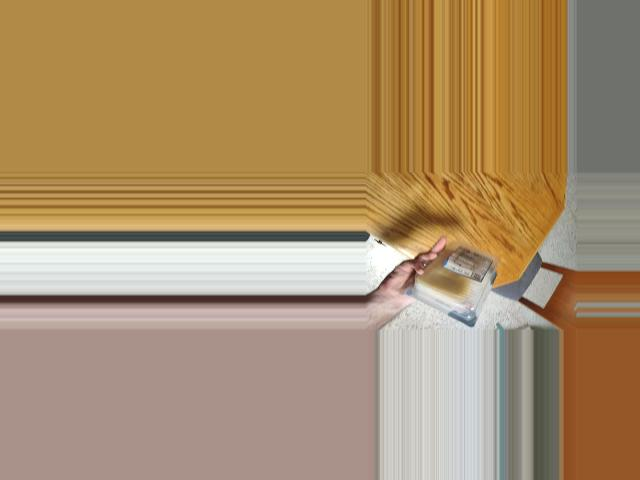cheese: (404, 255, 499, 320)
